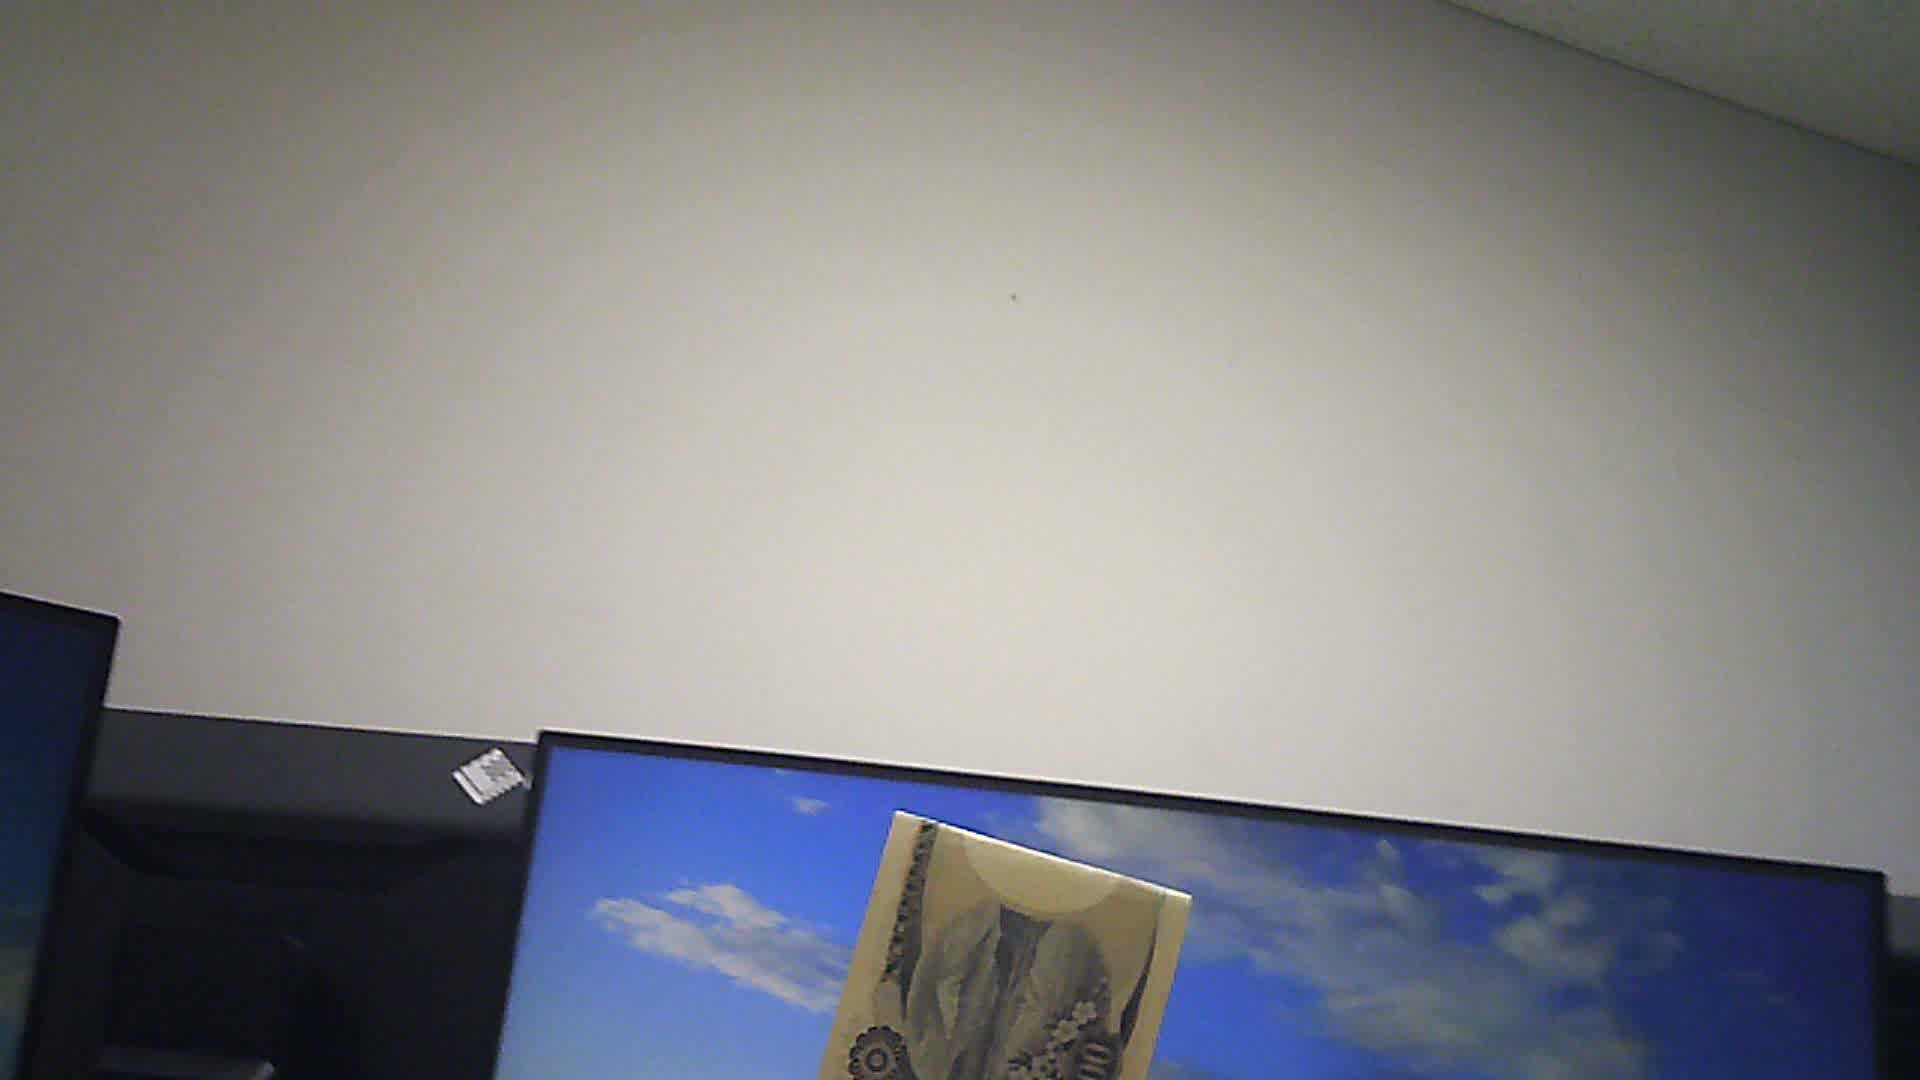1,000 Yen: (832, 799, 1195, 1079)
